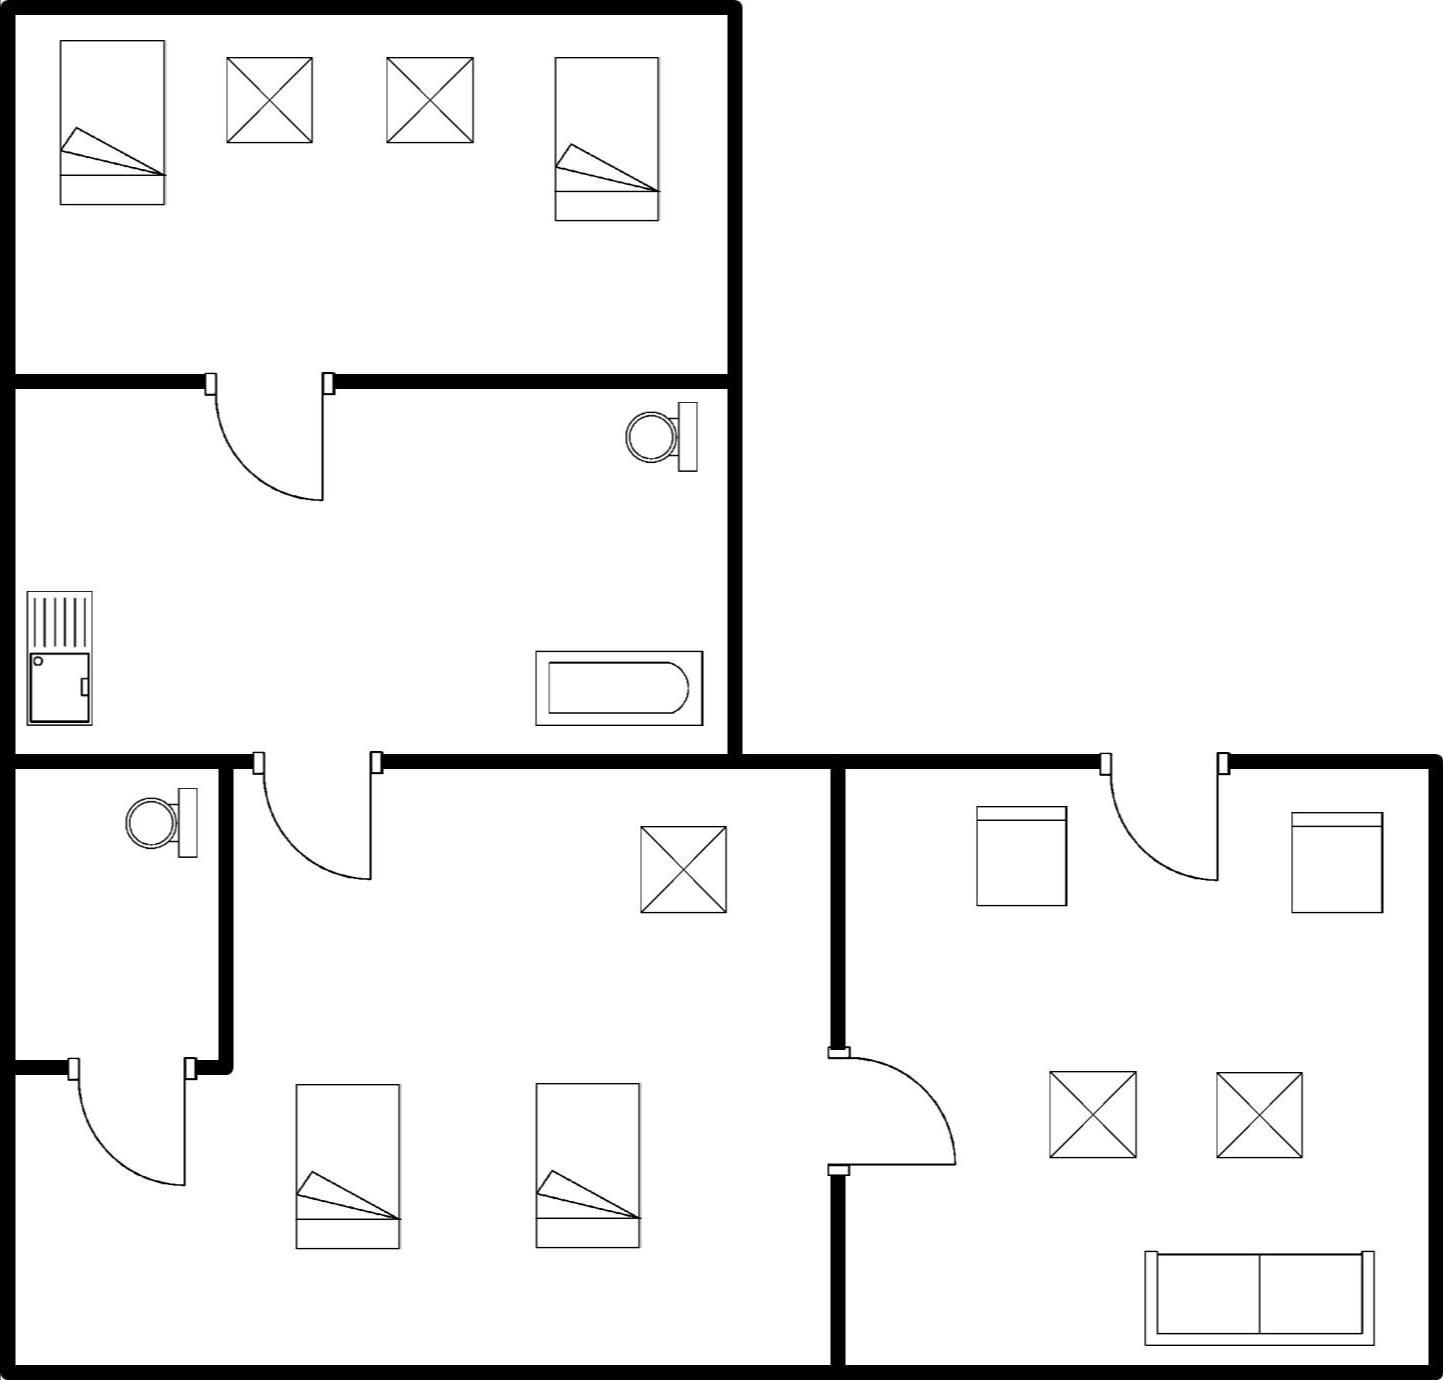bed: (542, 46, 670, 236), (524, 1071, 651, 1260), (286, 1071, 412, 1258), (52, 34, 178, 216)
sink: (17, 577, 102, 734)
sofa: (1136, 1238, 1386, 1356)
toilet: (119, 777, 209, 872), (616, 392, 706, 486)
tub: (528, 640, 714, 738)
